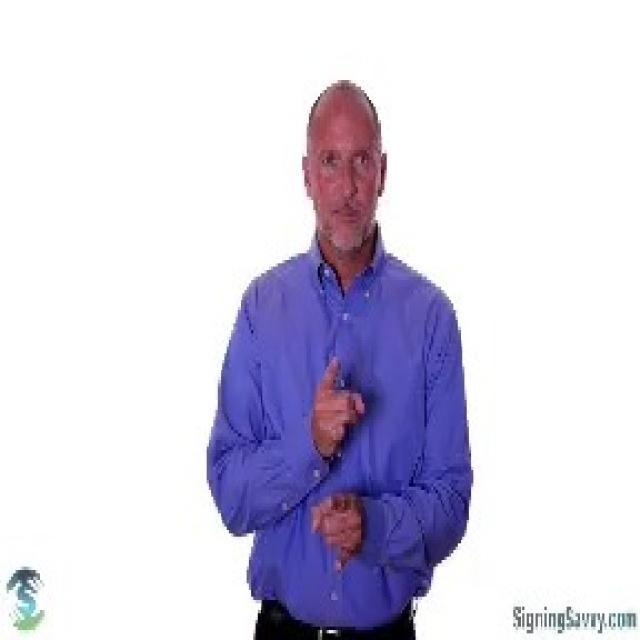alcohol: (308, 354, 372, 578)
